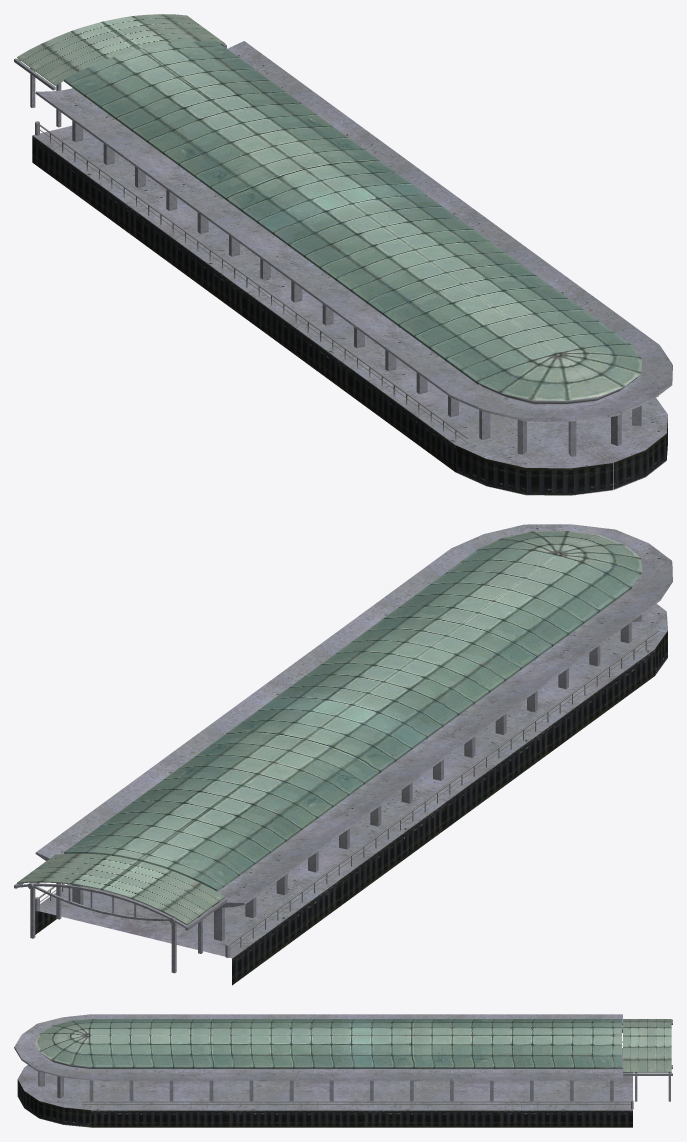
The model's file is pier1.glb.
3 views of the same model, one above another, from view 1: azimuth 30°, elevation 25°; view 2: azimuth 150°, elevation 25°; view 3: azimuth 270°, elevation 25° (orthographic). The views are drawn at different scales.
Parts seen in each view (by area): view 1: pier1, Cube.017, railing.001; view 2: pier1, Cube.017, railing.001; view 3: pier1, railing.001, Cube.017.
Boxes of the visible parts, x1,y1,x2,y2 form: pier1: [14, 14, 672, 495]; Cube.017: [72, 121, 528, 439]; railing.001: [38, 123, 658, 443]; pier1: [14, 524, 672, 985]; Cube.017: [72, 622, 631, 940]; railing.001: [39, 630, 658, 948]; pier1: [14, 1014, 672, 1127]; railing.001: [81, 1041, 630, 1108]; Cube.017: [89, 1080, 613, 1101].
Size of the model in its own units: 2 by 0.8734 by 8.52.
Materials: 2 (1 with a texture image).
